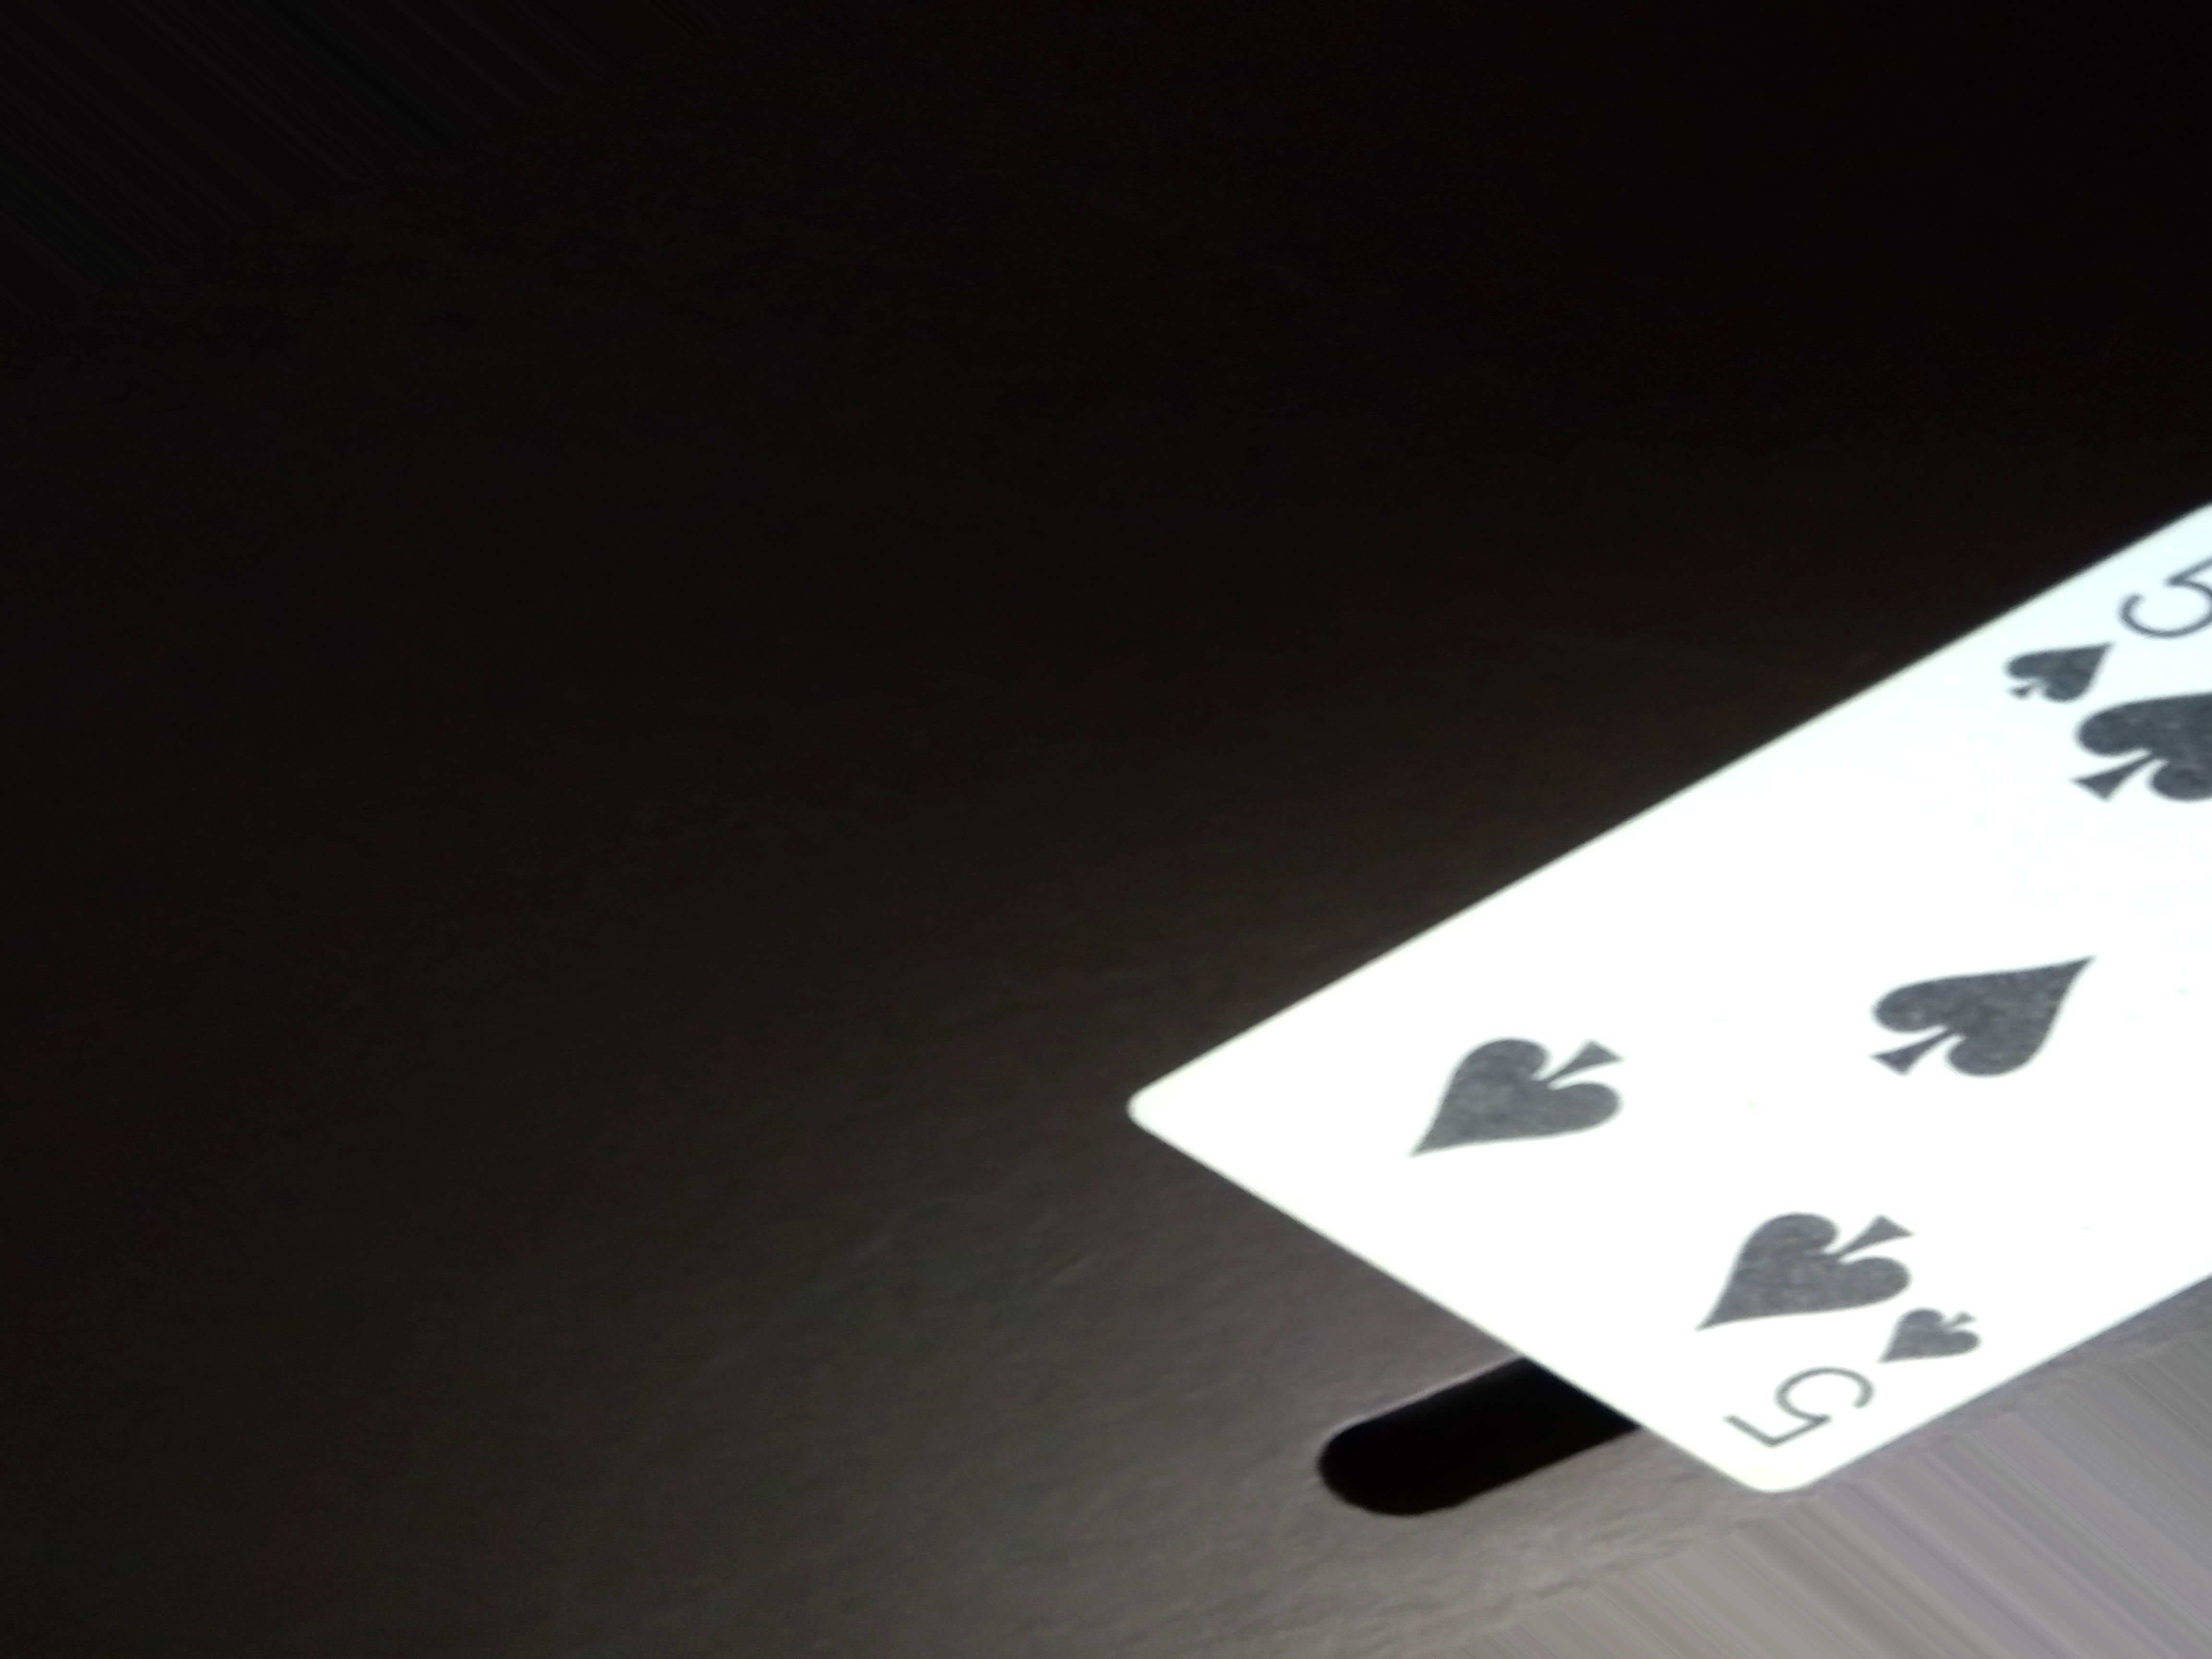5S: (1724, 1302, 1975, 1443)
